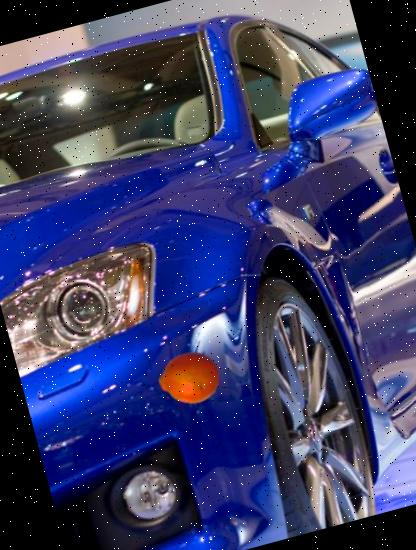Tangelo: (152, 340, 227, 415)
